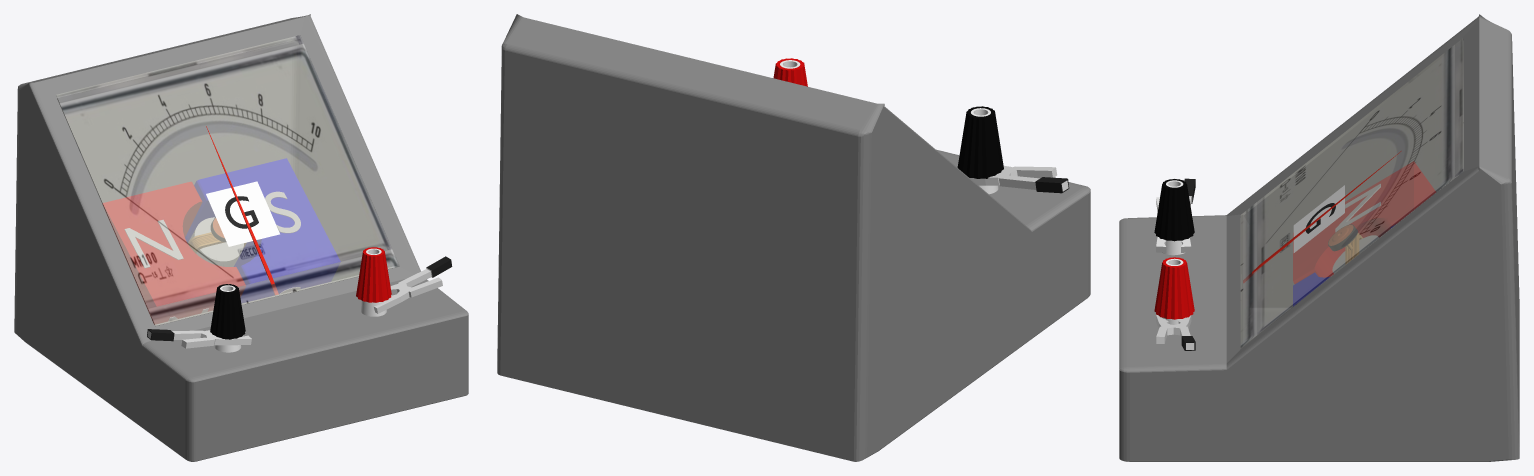
The model's file is moving_coil_galvanometer.glb.
3 renders of one model, left to right at view 1: azimuth 30°, elevation 25°; view 2: azimuth 150°, elevation 25°; view 3: azimuth 270°, elevation 25°, orthographic. The views are drawn at different scales.
Parts seen in each view (by area): view 1: Cube, Cube.003, Cube.004, Cube.008, Cylinder, Cylinder.001, Cylinder.008, Cube.010; view 2: Cube, Cylinder.001, Cube.008, Cylinder; view 3: Cube, Cube.003, Cube.004, Cylinder.001, Cylinder, Cube.008, Cylinder.006, Cube.010.
Boxes of the visible parts, x1,y1,x2,y2 form: Cube: (14,14,468,461); Cube.003: (56,35,399,326); Cube.004: (103,158,340,324); Cube.008: (147,256,452,348); Cylinder: (356,247,391,316); Cylinder.001: (210,284,245,352); Cylinder.008: (189,217,243,266); Cube.010: (206,126,278,294); Cube: (497,14,1090,461); Cylinder.001: (957,106,1003,194); Cube.008: (970,165,1069,193); Cylinder: (773,58,807,86); Cube: (1119,14,1519,461); Cube.003: (1240,38,1463,348); Cube.004: (1293,161,1435,306); Cylinder.001: (1154,179,1194,255); Cylinder: (1154,257,1194,329); Cube.008: (1156,178,1195,350); Cylinder.006: (1328,224,1357,250); Cube.010: (1243,151,1401,282).
Bounding box in the file's own units: 2.57 × 2.16 × 2.65.
Materials: 18 (1 with a texture image).
